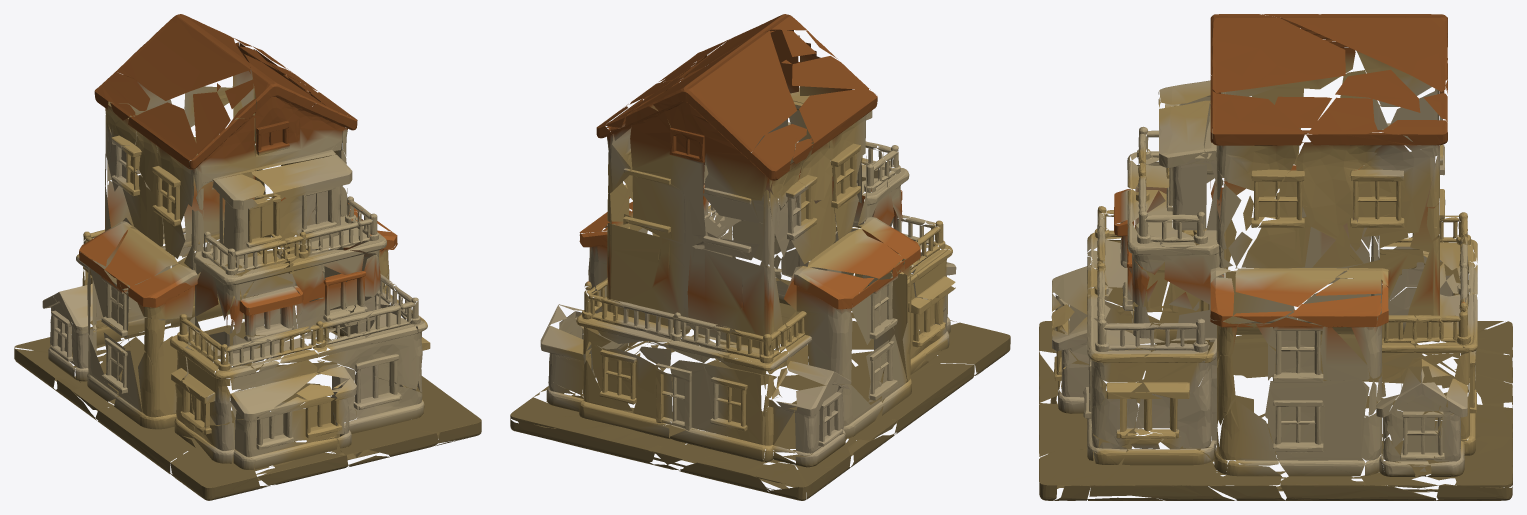
File: hero-housing.glb
3 renders of one model, left to right at view 1: azimuth 30°, elevation 25°; view 2: azimuth 150°, elevation 25°; view 3: azimuth 270°, elevation 25°, orthographic. The views are drawn at different scales.
Visible parts, largest first — view 1: world; view 2: world; view 3: world.
Part boxes in pixels (x1,y1,x2,y2): world: [14, 14, 481, 500]; world: [510, 14, 1010, 500]; world: [1039, 14, 1512, 500].
Size of the model in its own units: 2.22 by 2.55 by 2.7.
